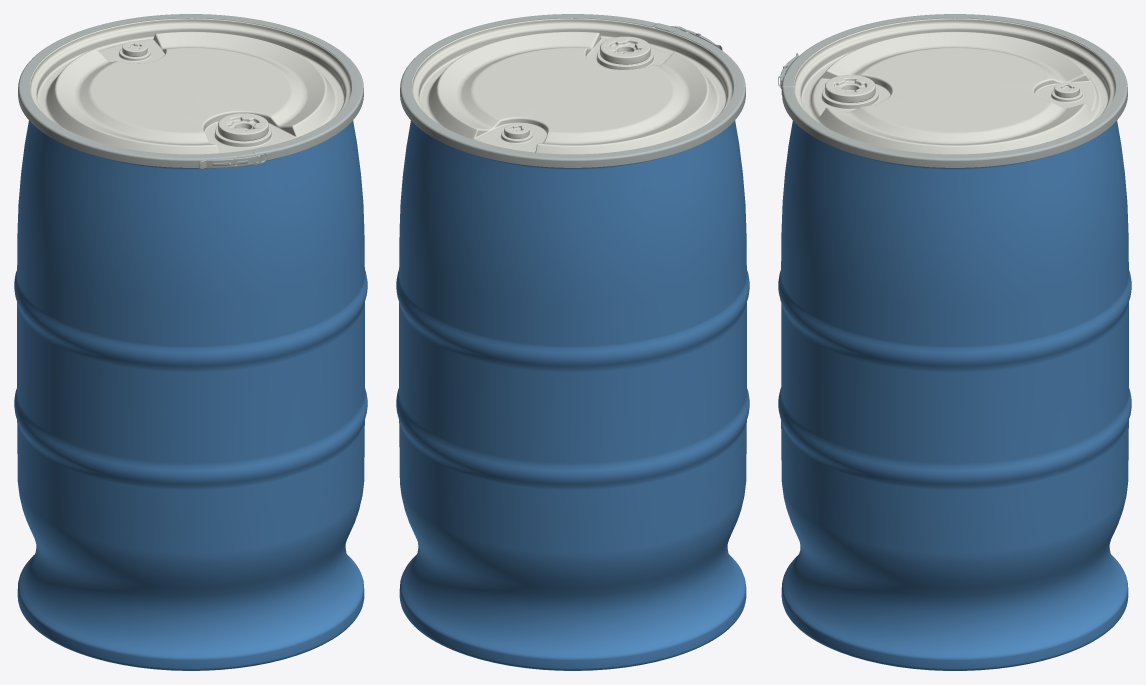
The model's file is drum_plastic_blue_a04.glb.
The picture shows the model from 3 angles, left to right: view 1: azimuth 30°, elevation 25°; view 2: azimuth 150°, elevation 25°; view 3: azimuth 270°, elevation 25°; orthographic projection.
Bounding box in the file's own units: 0.4706 × 0.7542 × 0.4706.
